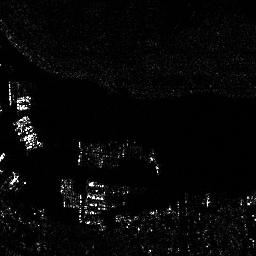ship: (11, 114, 44, 150)
